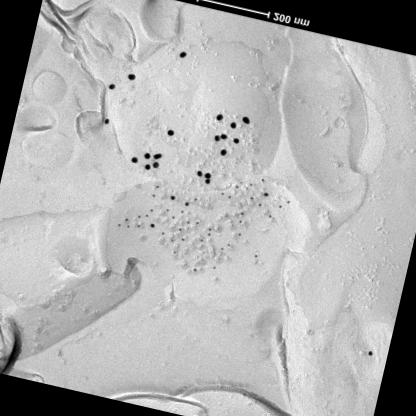6 nm Particle: (176, 226, 184, 234), (236, 219, 244, 226), (239, 210, 246, 218), (266, 214, 274, 221), (256, 202, 264, 209), (237, 231, 244, 239), (191, 267, 198, 274), (284, 200, 292, 206), (151, 193, 158, 199), (125, 224, 132, 230), (185, 219, 191, 226), (194, 220, 201, 226), (155, 184, 161, 190), (220, 191, 226, 197), (249, 196, 255, 202), (234, 184, 240, 190), (212, 265, 218, 271), (172, 249, 178, 255), (169, 238, 175, 244), (180, 236, 186, 242), (198, 238, 204, 244), (136, 223, 142, 229), (226, 242, 232, 248), (123, 217, 129, 223), (206, 232, 212, 238), (144, 212, 150, 218), (148, 208, 154, 214), (180, 210, 186, 215), (278, 205, 284, 210), (116, 223, 122, 228), (219, 246, 224, 252), (136, 214, 142, 219), (207, 227, 212, 233), (171, 214, 176, 220), (227, 195, 232, 200), (249, 182, 254, 187), (165, 208, 170, 213), (193, 198, 199, 202), (260, 178, 266, 182), (160, 232, 165, 236), (240, 181, 244, 185)
